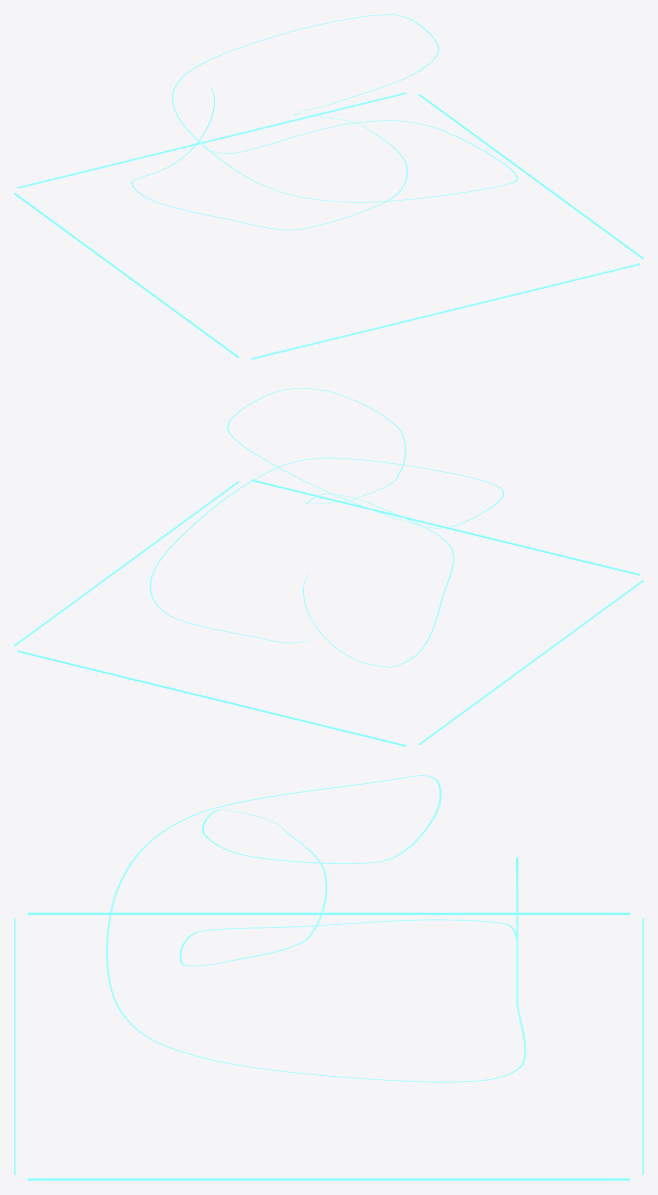
The model's file is circuit-part-8.glb.
3 renders of one model, top to bottom at view 1: azimuth 30°, elevation 25°; view 2: azimuth 150°, elevation 25°; view 3: azimuth 270°, elevation 25°, orthographic. The views are drawn at different scales.
Parts seen in each view (by area): view 1: track-part-0; view 2: track-part-0; view 3: track-part-0.
Boxes of the visible parts, x1,y1,x2,y2 form: track-part-0: [14, 14, 643, 359]; track-part-0: [14, 388, 643, 746]; track-part-0: [14, 775, 643, 1180].
Size of the model in its own units: 29.28 by 12.49 by 29.28.
